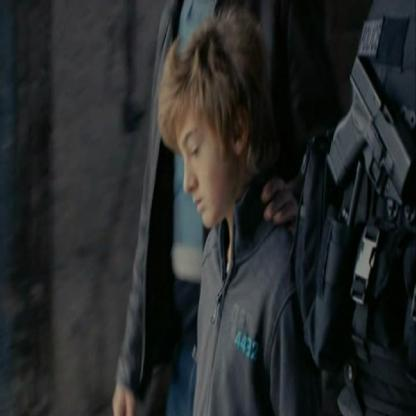Guns: (322, 50, 415, 206)
